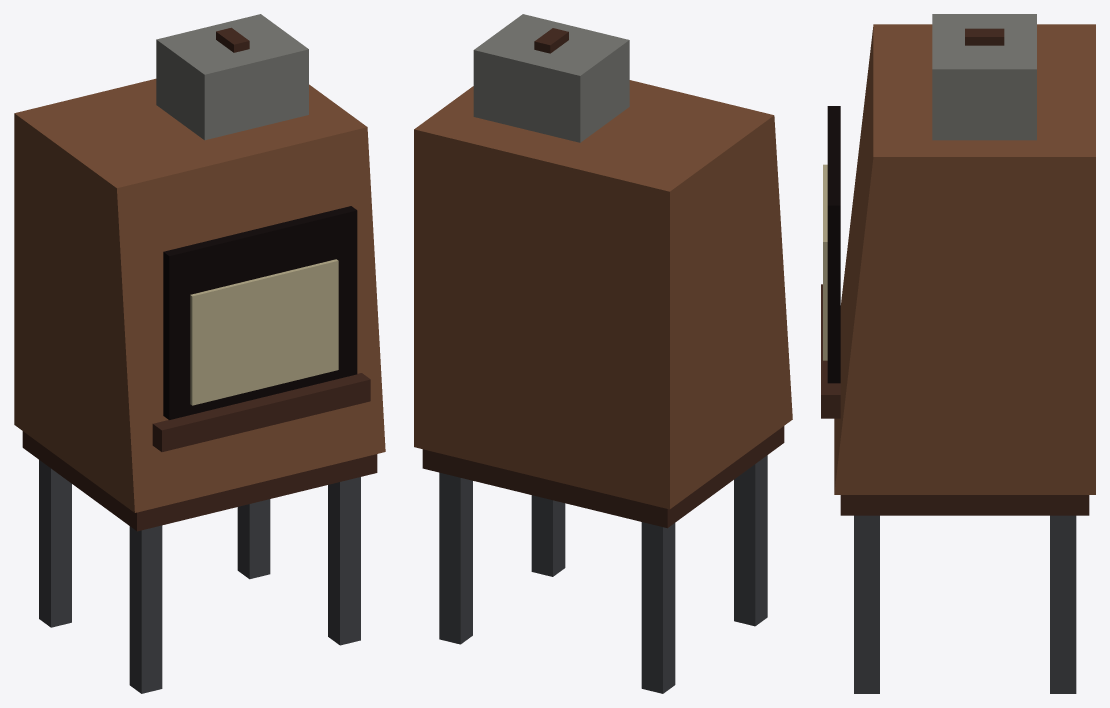
Rendered from hollis_news_box.glb.
3 views of the same model, side by side, from view 1: azimuth 30°, elevation 25°; view 2: azimuth 150°, elevation 25°; view 3: azimuth 270°, elevation 25° (orthographic). The views are drawn at different scales.
Parts seen in each view (by area): view 1: hollis_news_box; view 2: hollis_news_box; view 3: hollis_news_box.
Boxes of the visible parts, x1,y1,x2,y2 form: hollis_news_box: (14, 14, 385, 693); hollis_news_box: (414, 14, 792, 693); hollis_news_box: (821, 14, 1095, 693).
Bounding box in the file's own units: 0.48 × 1.05 × 0.42.
